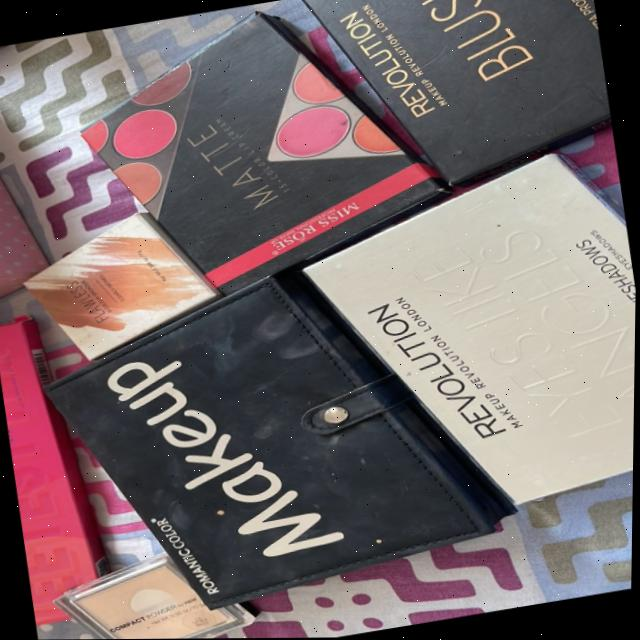blush: (349, 0, 615, 176)
eye shade: (55, 0, 446, 319)
powder: (36, 203, 214, 368), (43, 535, 287, 640)
